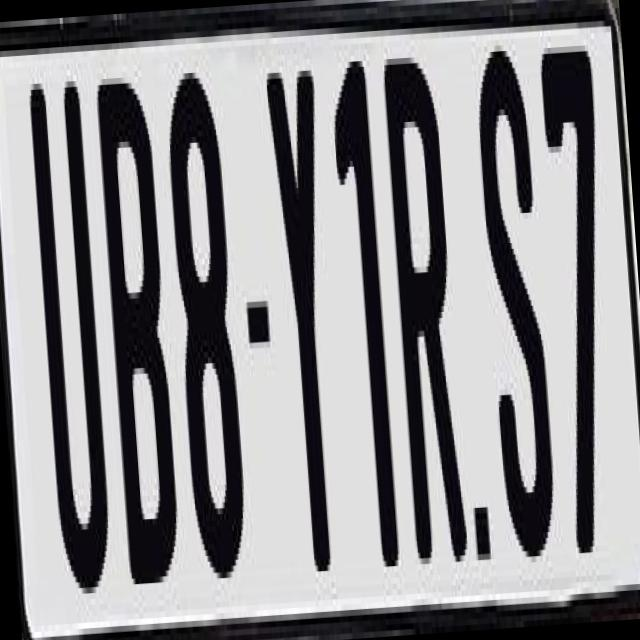1: (326, 49, 398, 556)
7: (537, 39, 633, 576)
8: (162, 59, 252, 591)
B: (91, 76, 182, 584)
R: (381, 49, 471, 576)
S: (471, 32, 559, 540)
U: (28, 80, 122, 594)
Y: (262, 52, 352, 561)
